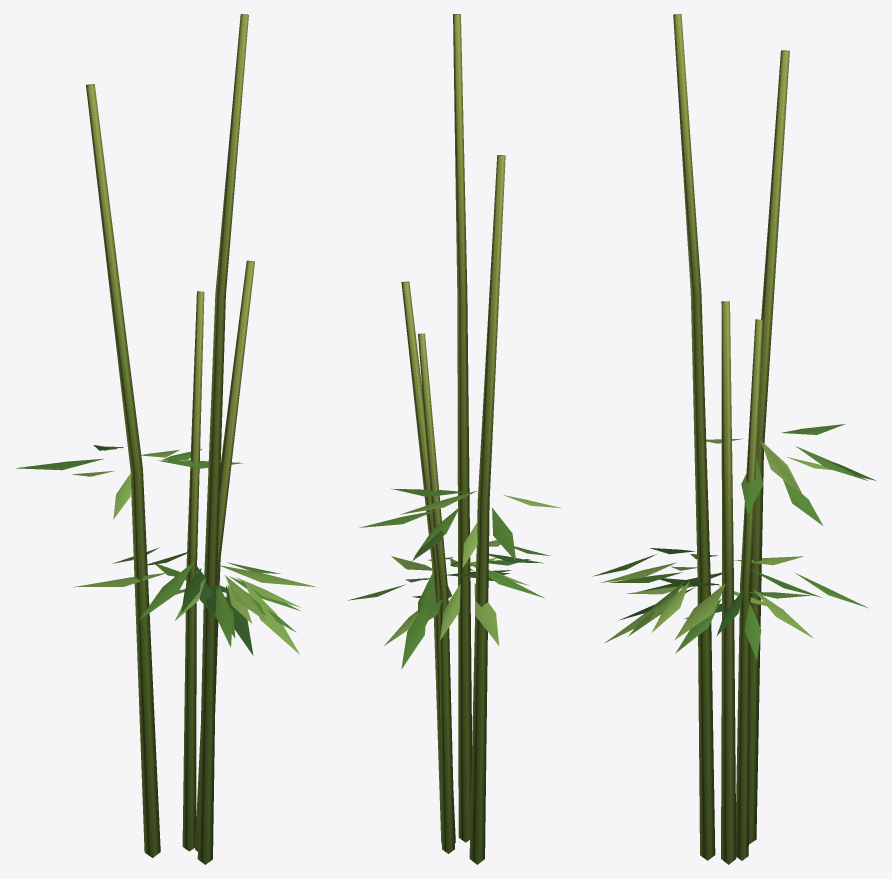
File: prop.bamboo_clump.lod1.glb
The picture shows the model from 3 angles, left to right: view 1: azimuth 30°, elevation 25°; view 2: azimuth 150°, elevation 25°; view 3: azimuth 270°, elevation 25°; orthographic projection. The views are drawn at different scales.
Visible parts, largest first — view 1: bamboo_clump; view 2: bamboo_clump; view 3: bamboo_clump.
Part boxes in pixels (x1,y1,x2,y2): bamboo_clump: (16, 14, 316, 864); bamboo_clump: (347, 14, 561, 864); bamboo_clump: (592, 14, 876, 864).
Size of the model in its own units: 3.12 by 11.39 by 3.46.
